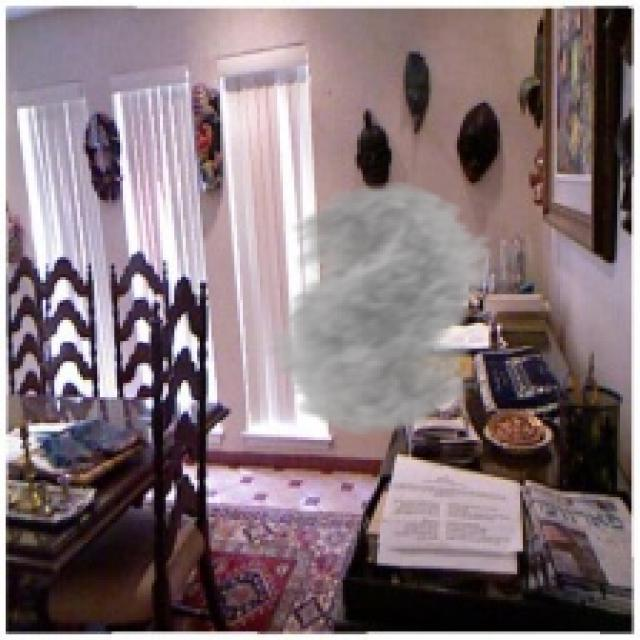Smoke: (246, 180, 523, 437)
